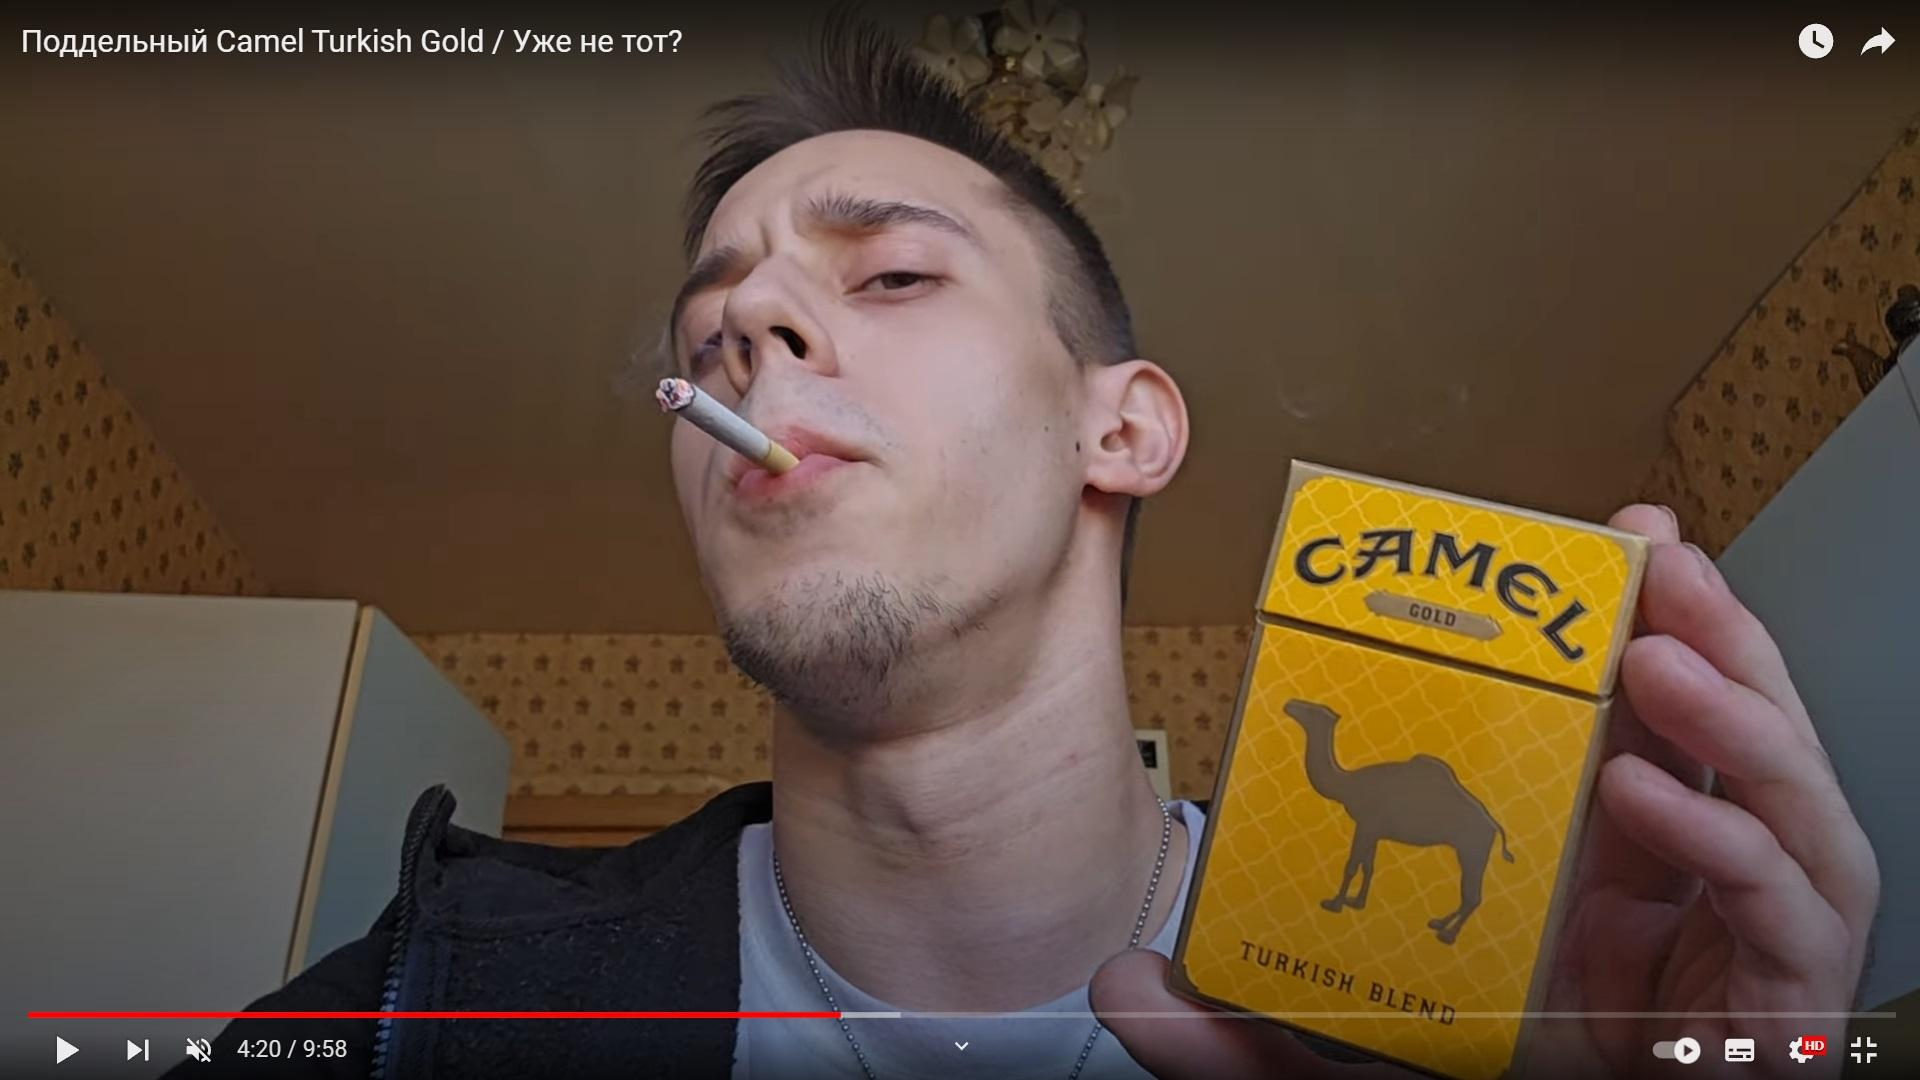cigarette: (651, 377, 799, 476)
